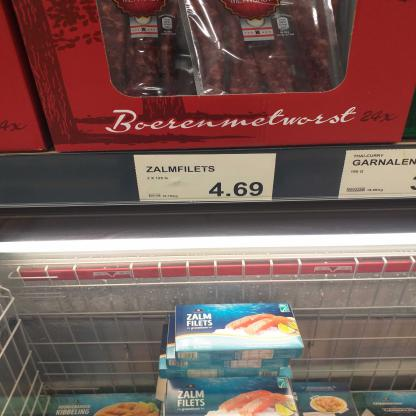prtg: (135, 154, 278, 203), (338, 150, 416, 200)
